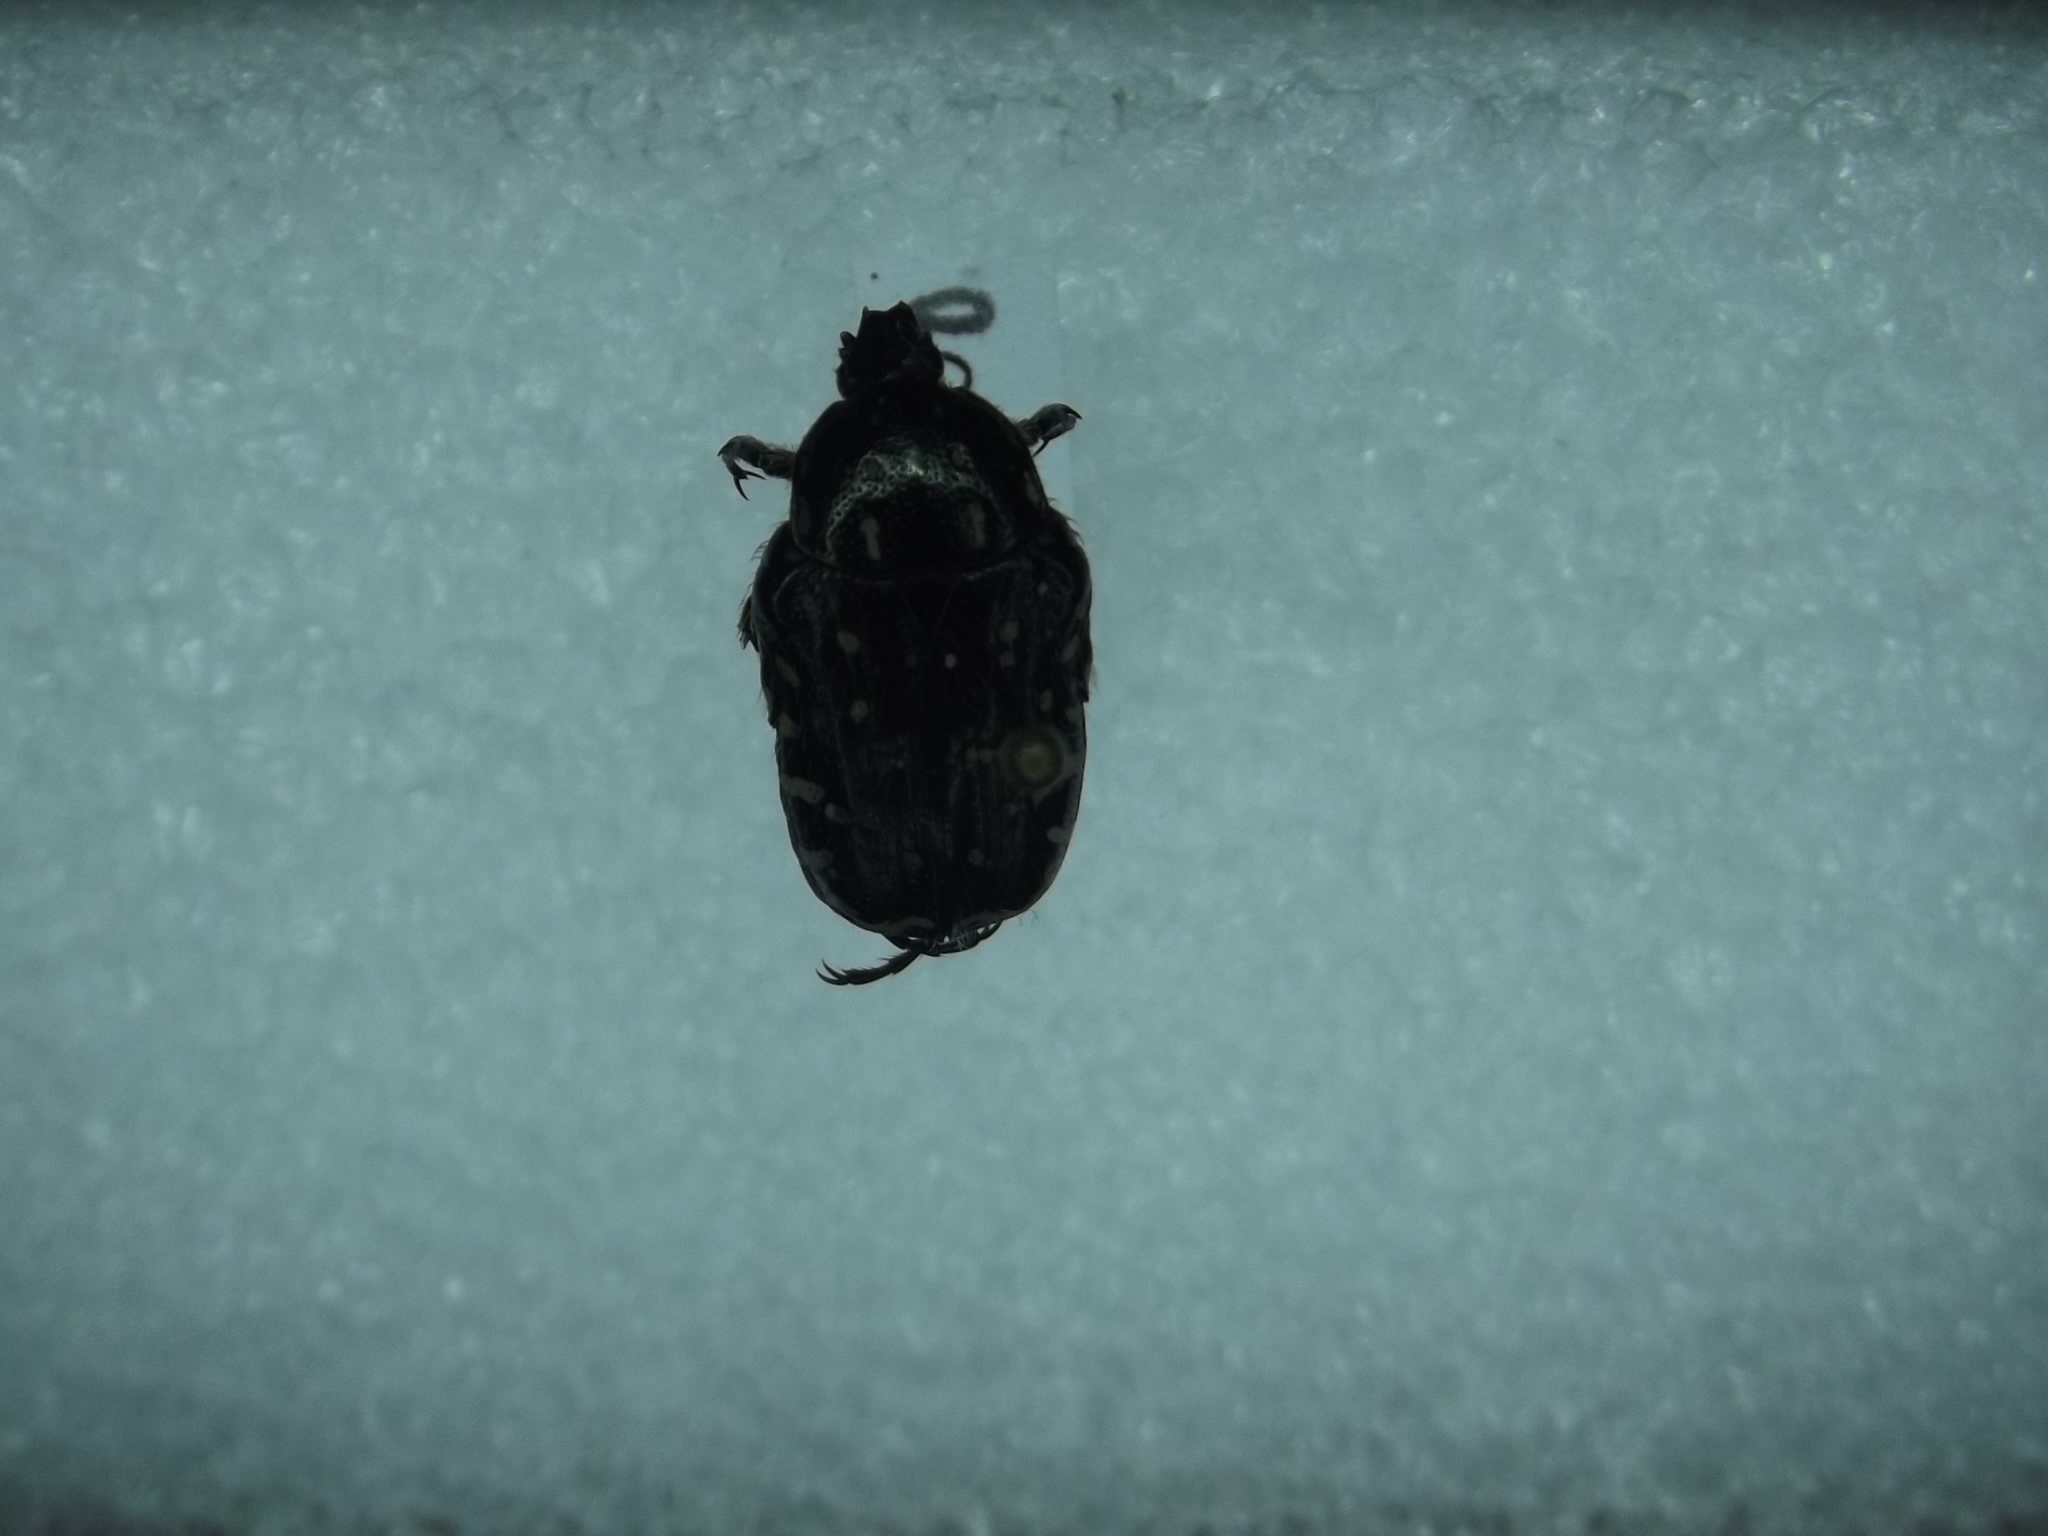Oxythyrea_funesta: (714, 269, 1108, 1007)
